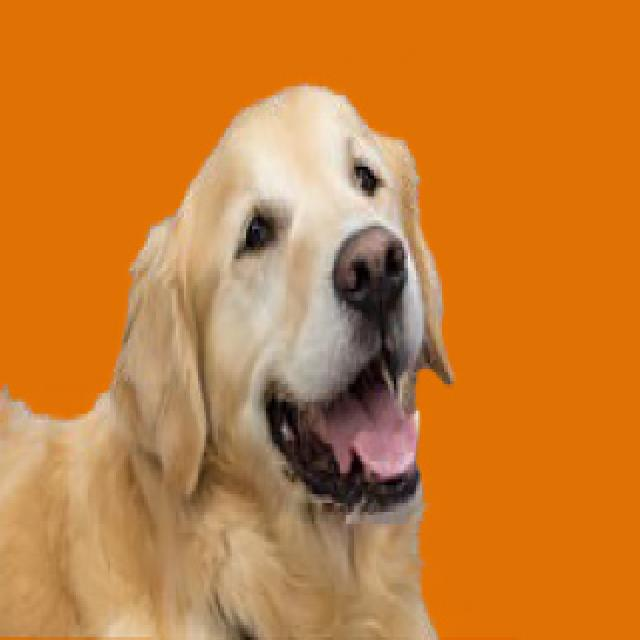dog: (1, 84, 454, 640)
